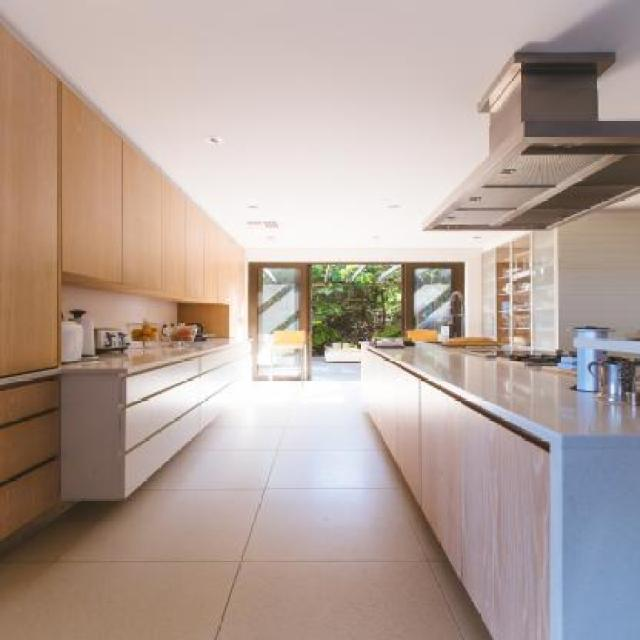floor: (0, 380, 495, 638)
